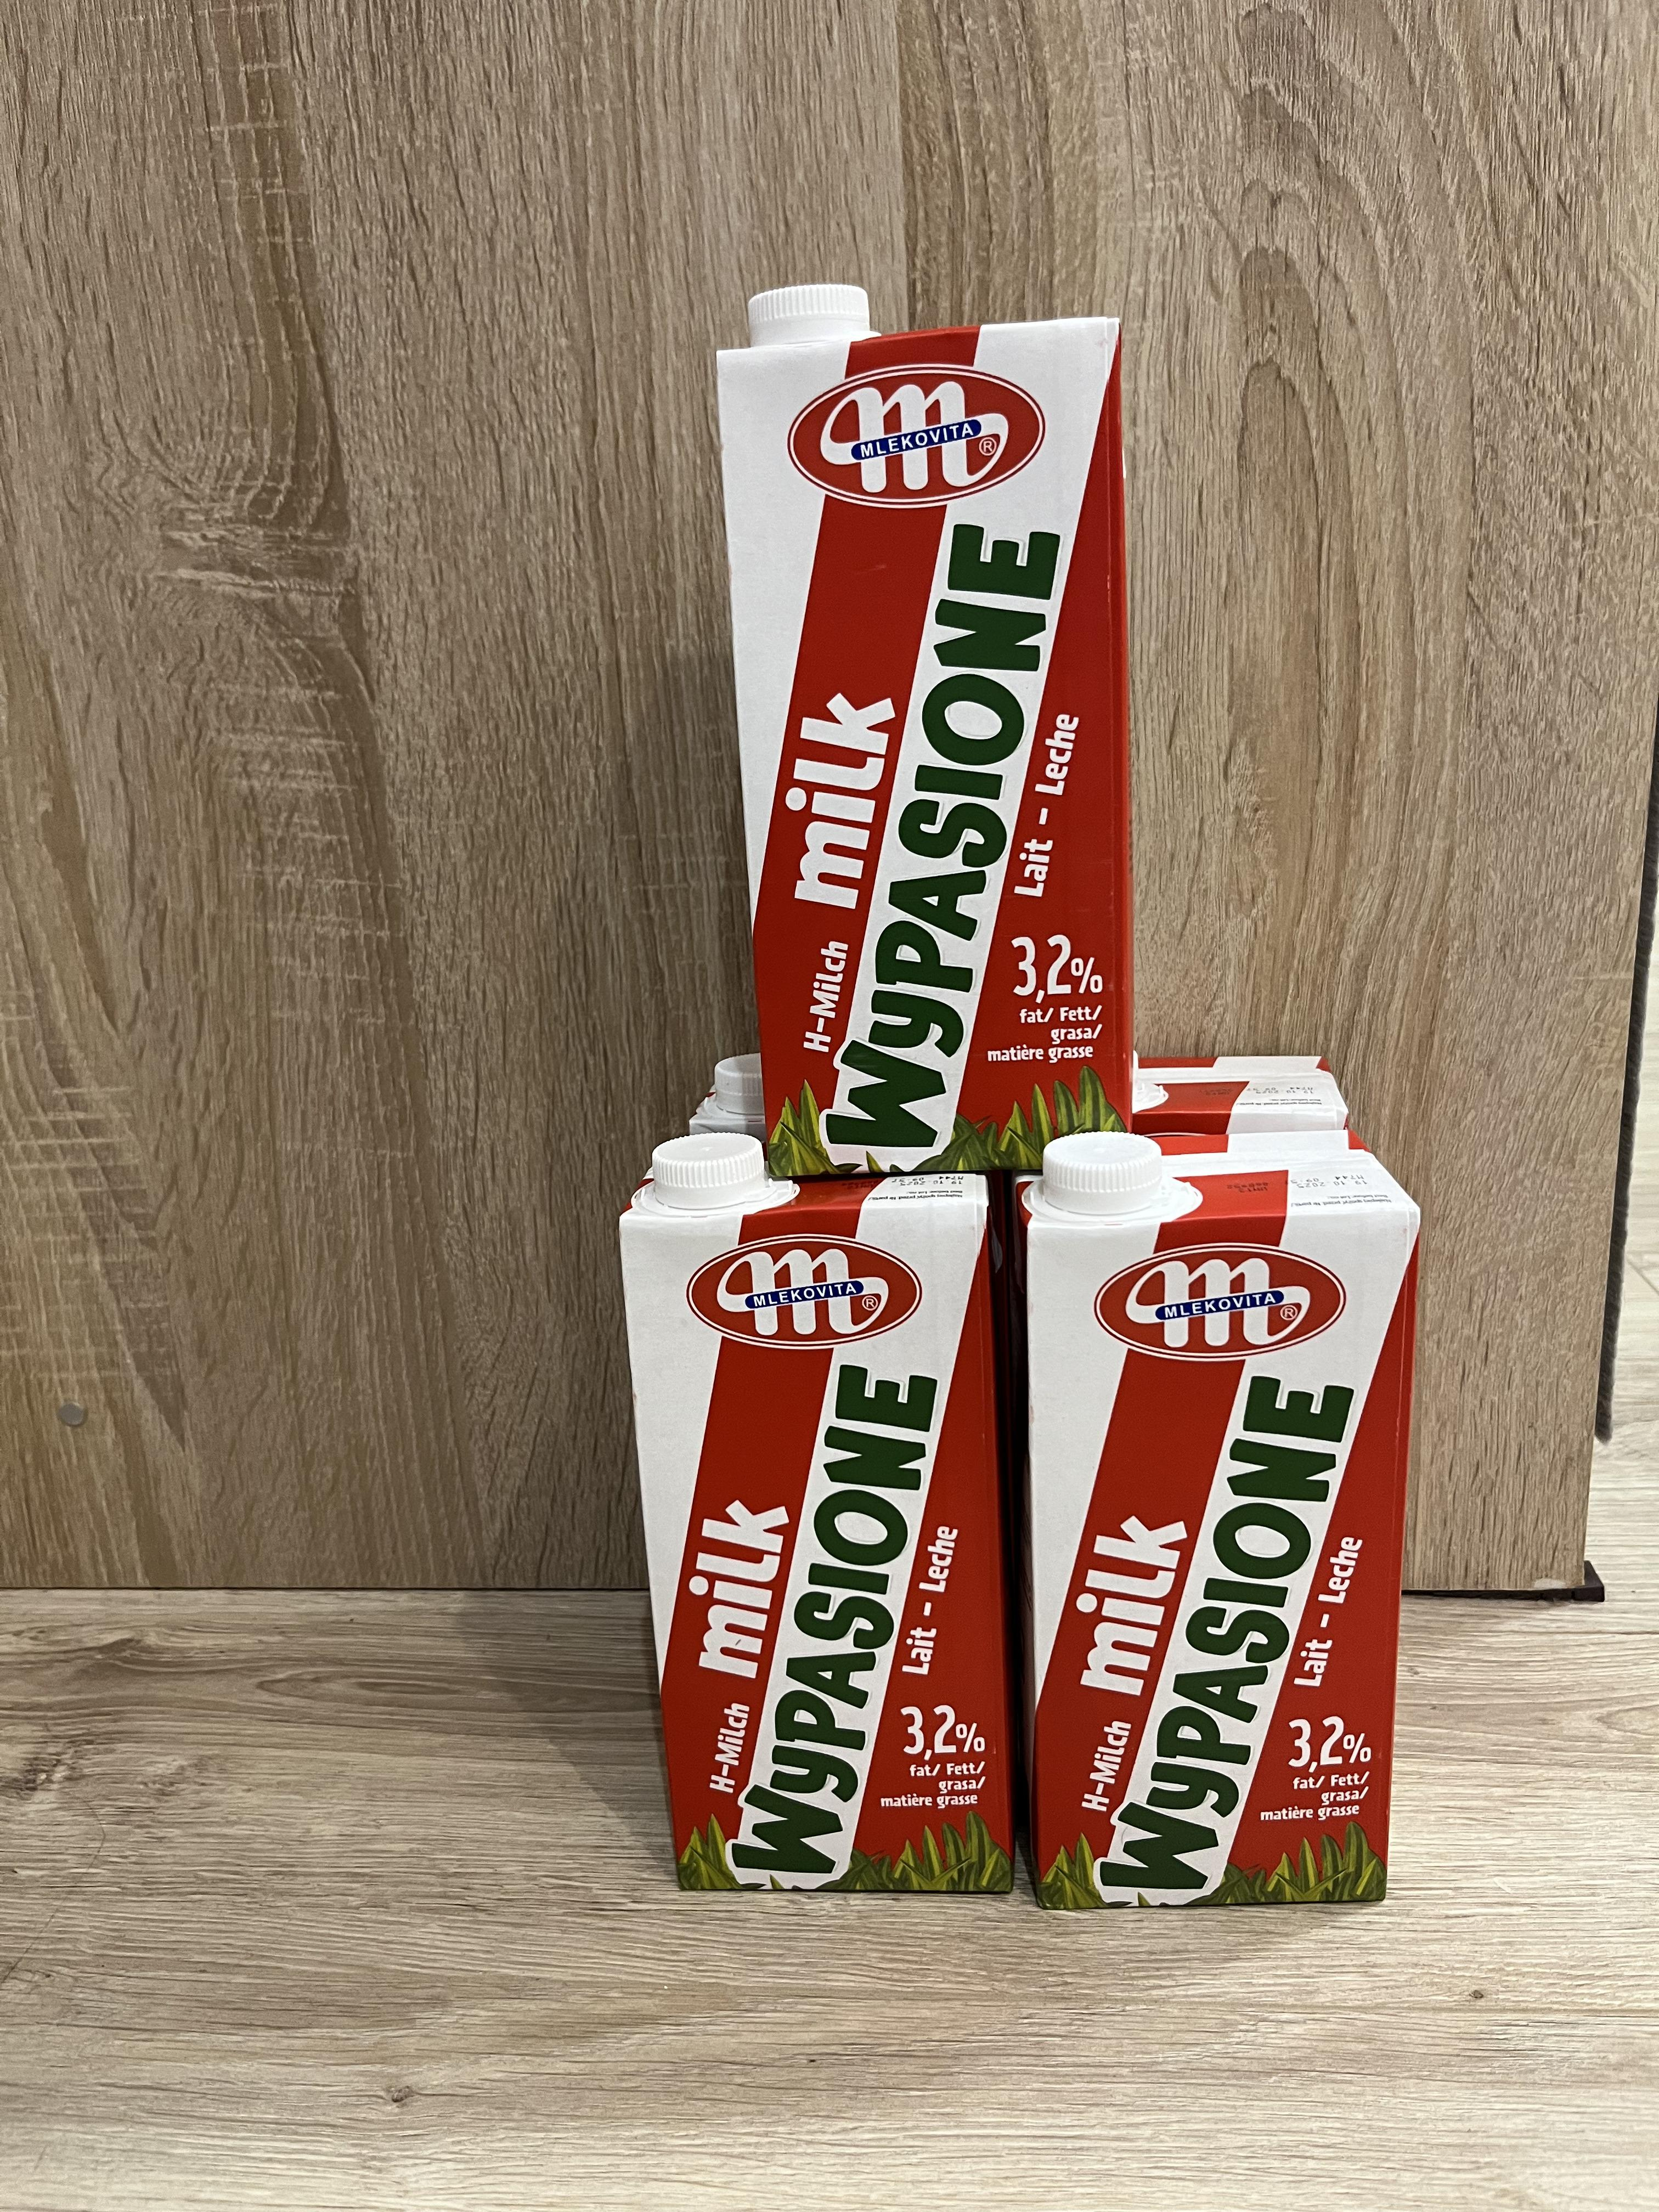Milk: (725, 334, 1138, 1162), (1032, 1146, 1399, 1919), (659, 1179, 1023, 1940)
